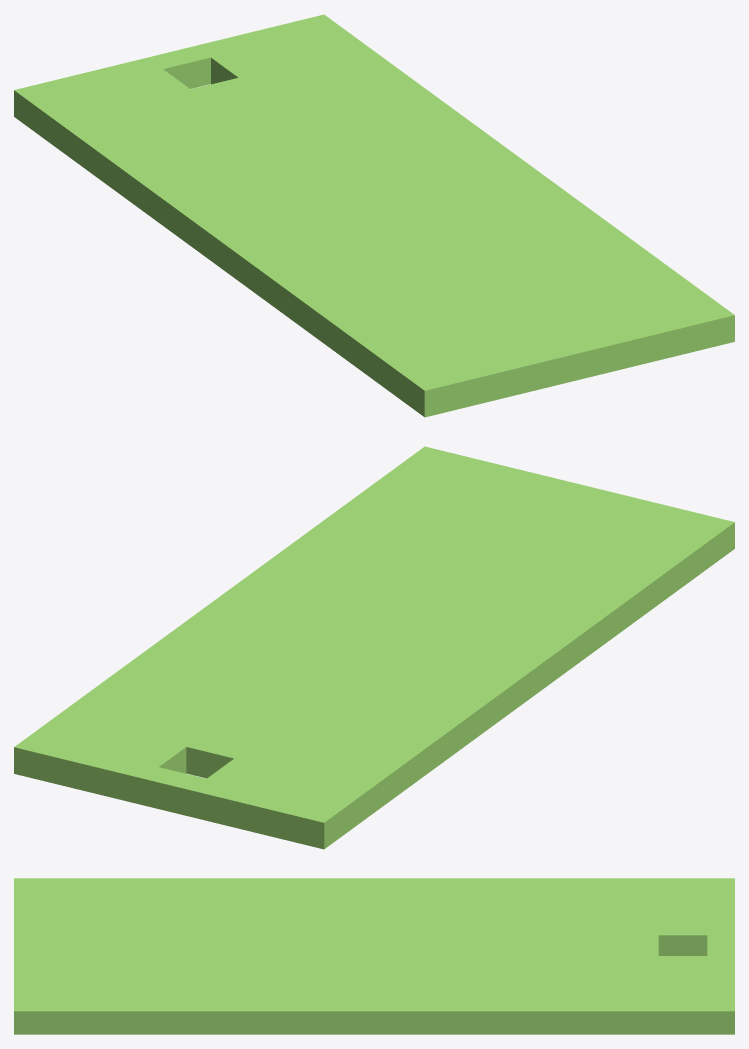
File: BookMark.fbx
3 views of the same model, one above another, from view 1: azimuth 30°, elevation 25°; view 2: azimuth 150°, elevation 25°; view 3: azimuth 270°, elevation 25° (orthographic). The views are drawn at different scales.
Visible parts, largest first — view 1: 平面; view 2: 平面; view 3: 平面.
Boxes of the visible parts, left/top/right/bottom form: 平面: left=14, top=14, right=734, bottom=417; 平面: left=14, top=446, right=734, bottom=849; 平面: left=14, top=878, right=734, bottom=1034.
Bounding box in the file's own units: 89.19 × 7.32 × 205.
